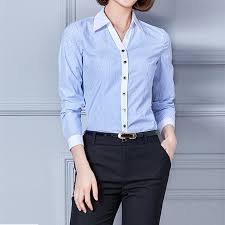F_belt: (81, 126, 164, 145)
F_shirt: (50, 8, 184, 152)
S_W_pants: (72, 128, 171, 225)
